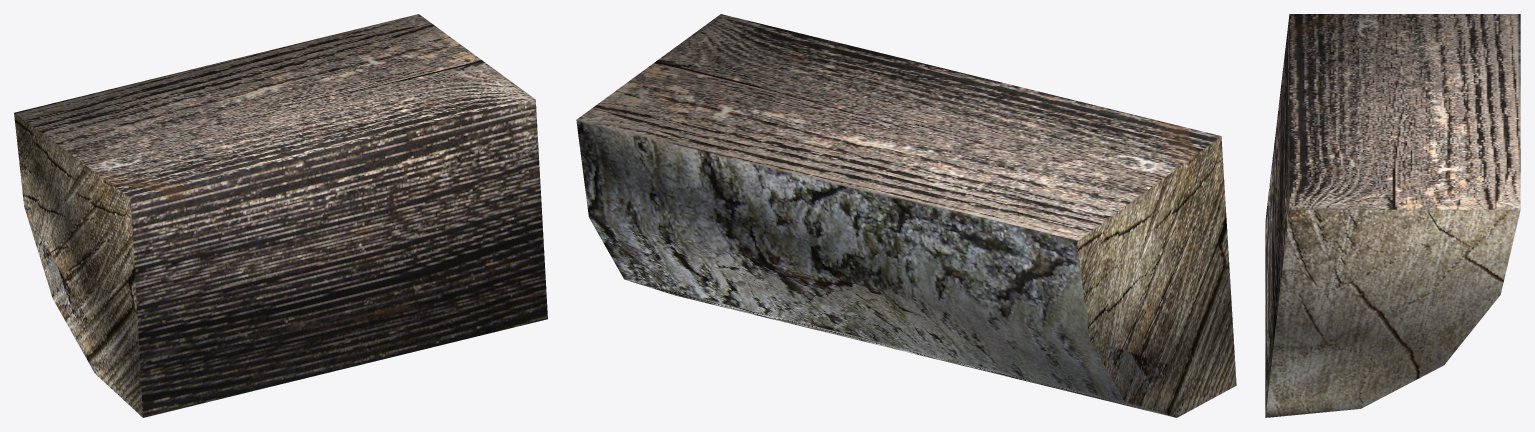
Rendered from Tree_Piece.fbx.
3 views of the same model, side by side, from view 1: azimuth 30°, elevation 25°; view 2: azimuth 150°, elevation 25°; view 3: azimuth 270°, elevation 25° (orthographic). The views are drawn at different scales.
Visible parts, largest first — view 1: Wood; view 2: Wood; view 3: Wood.
Part boxes in pixels (x1,y1,x2,y2): Wood: (14,14,547,417); Wood: (576,14,1236,417); Wood: (1265,14,1520,417).
Size of what is drawn, in the model's own units: 20 by 9.95 by 11.05.
